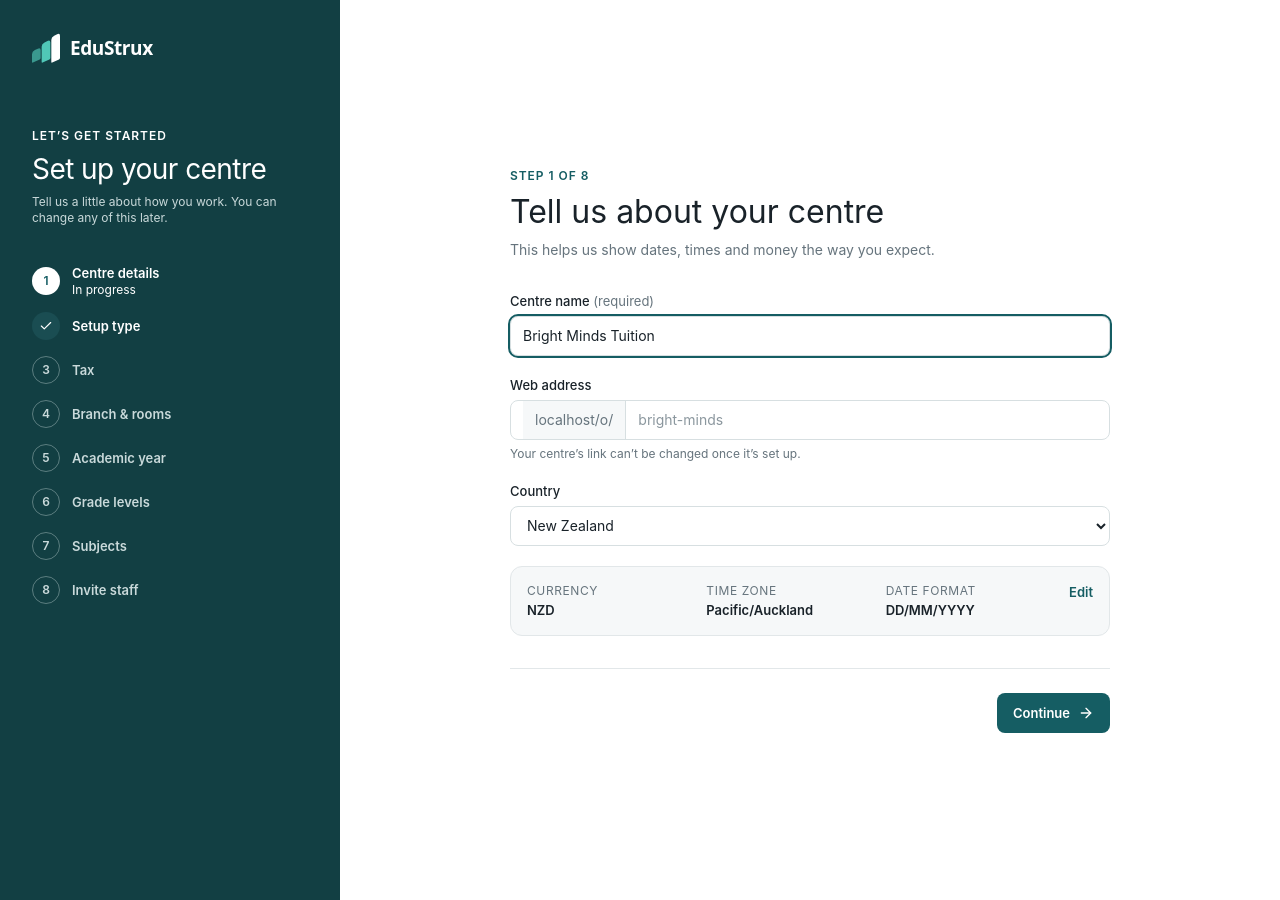
Test: the setup wizard › changes the centre’s details with only what changed, then asks how it runs
Check: the field labelled "Web address" is disabled, box x1=626 y1=400 x2=1097 y2=438
Type "Bright Minds Academy" into the field labelled "Centre name (required)".
click(810, 336); type("Bright Minds Academy")  # box x1=510 y1=316 x2=1110 y2=356
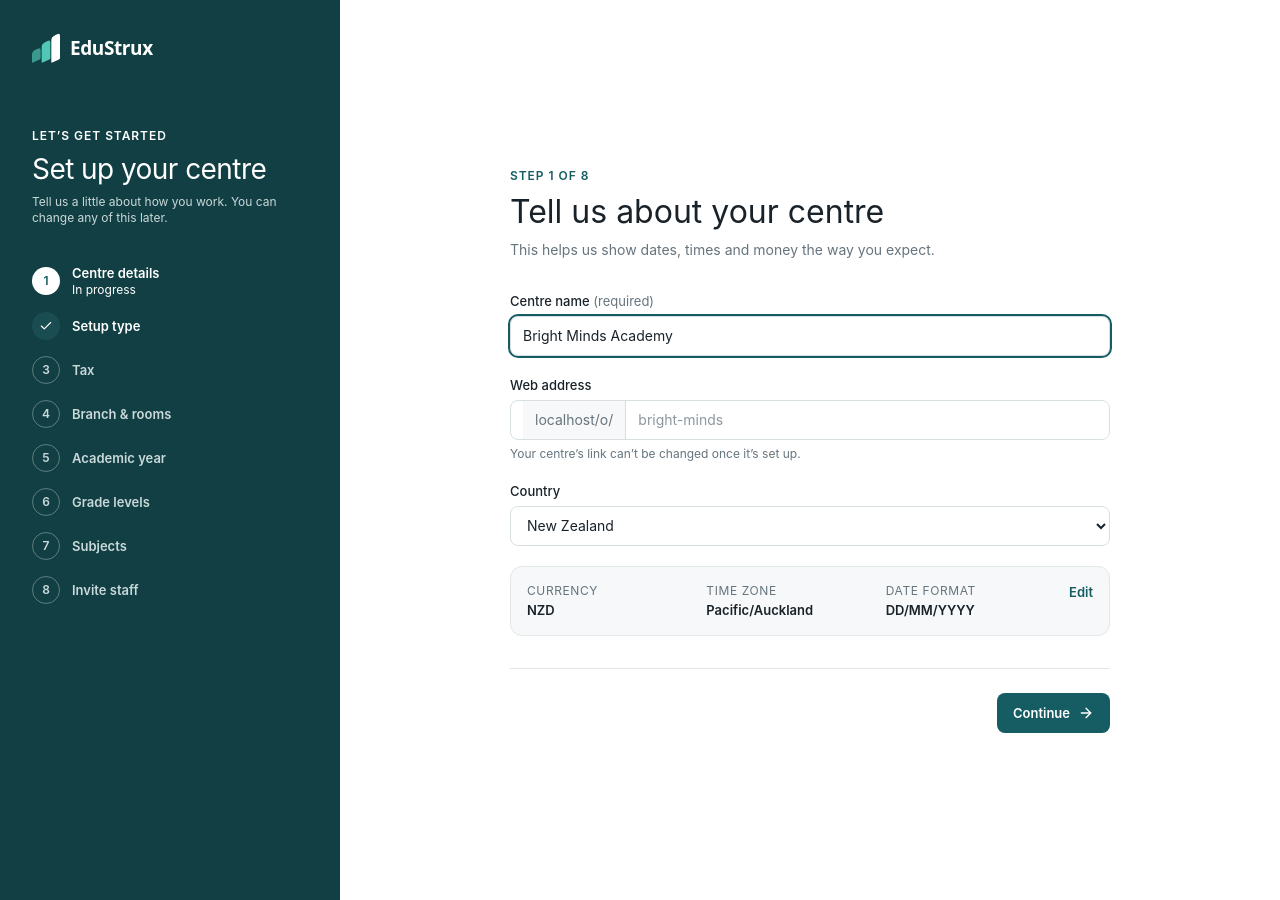
Click the button "Continue".
click(1054, 712)  # box x1=997 y1=692 x2=1110 y2=732
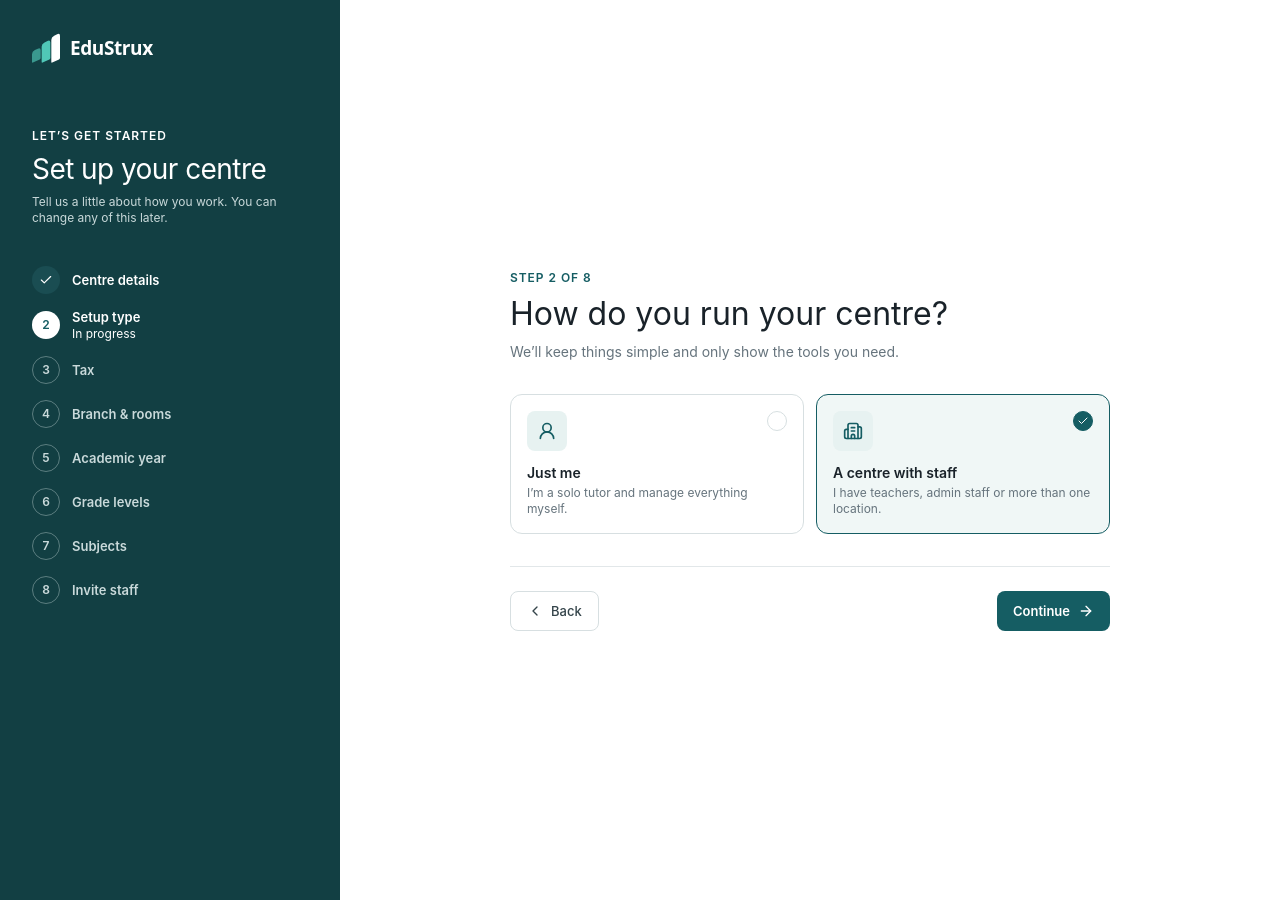
Check: the heading "How do you run your centre?" is shown, box x1=510 y1=294 x2=948 y2=332
